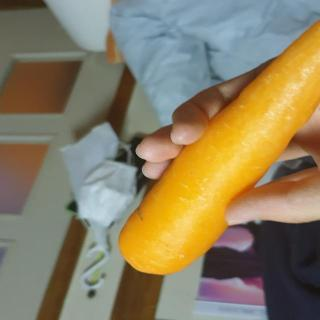carrot: (115, 18, 320, 279)
